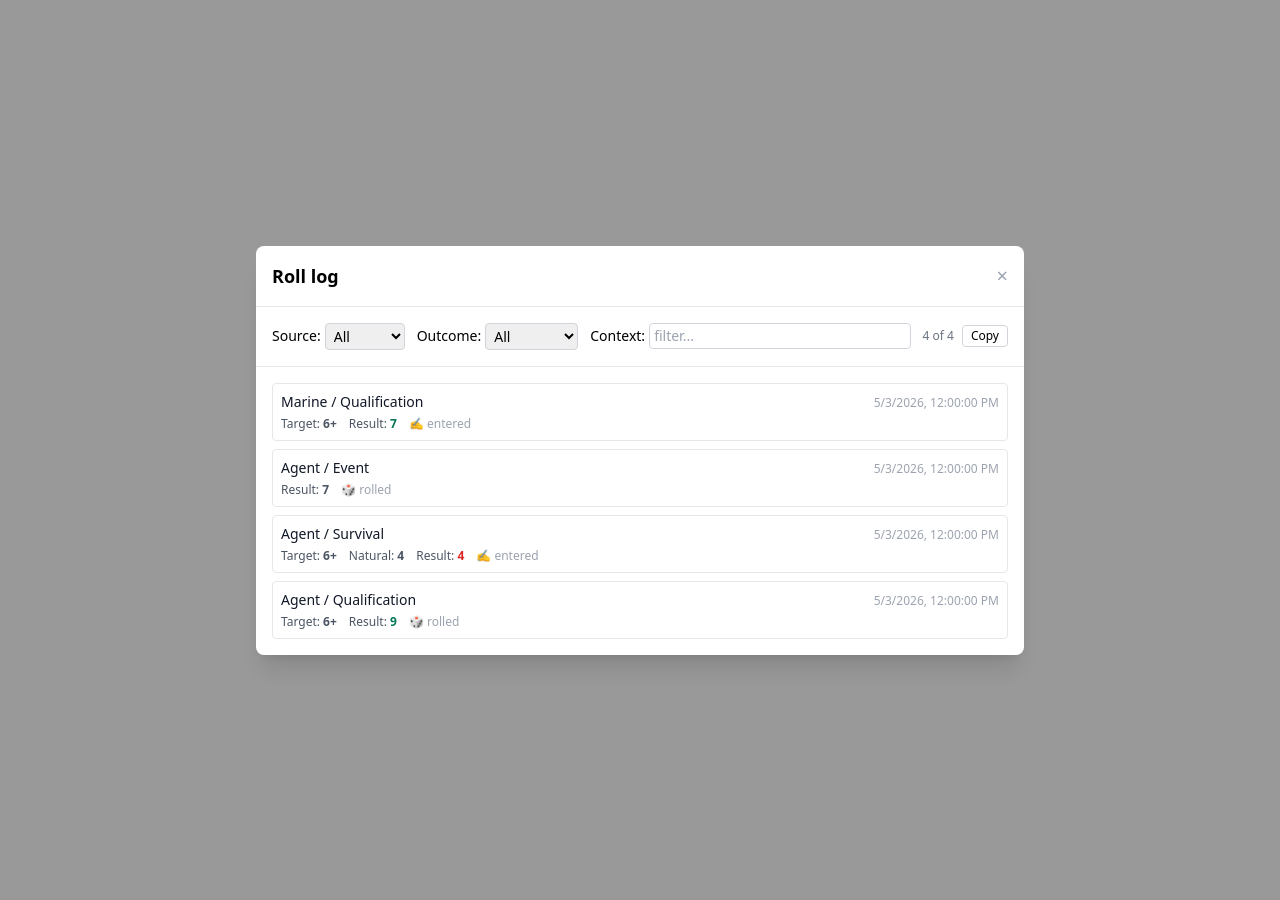
Test: RollLogViewer › filters by outcome: pass
Select "Pass" in the dropdown named "Outcome filter" at point(532, 336), box [485,322,578,350]
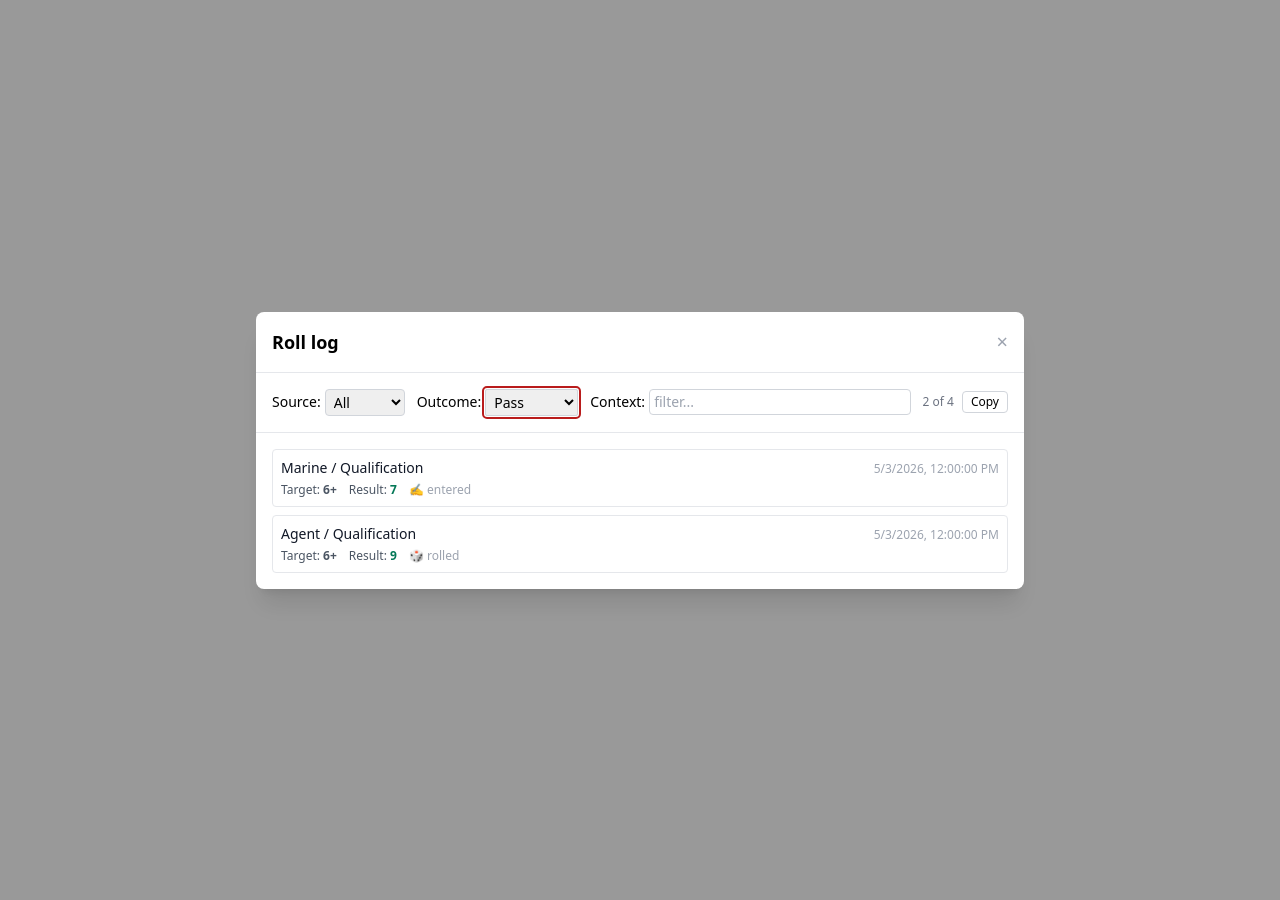
Expected: the text "Agent / Qualification" is shown, [281,524,416,544]
Result: the text "Agent / Survival" is gone
Result: the text "Agent / Event" is gone
